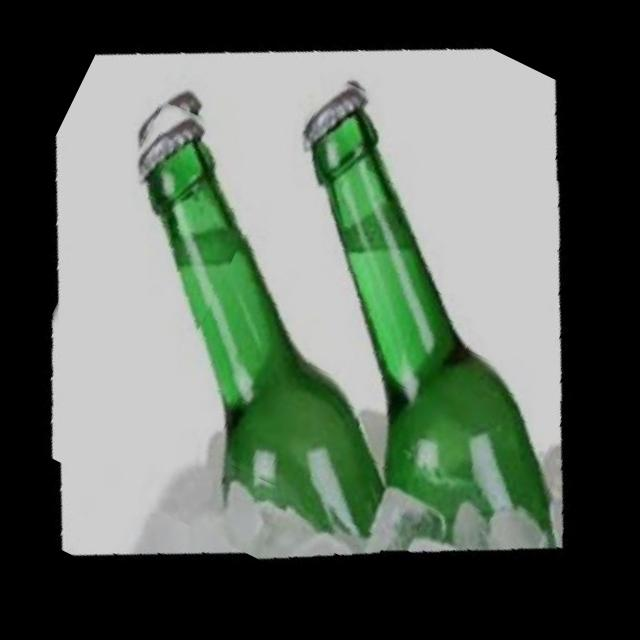Glass: (0, 72, 526, 604), (149, 64, 640, 607)
